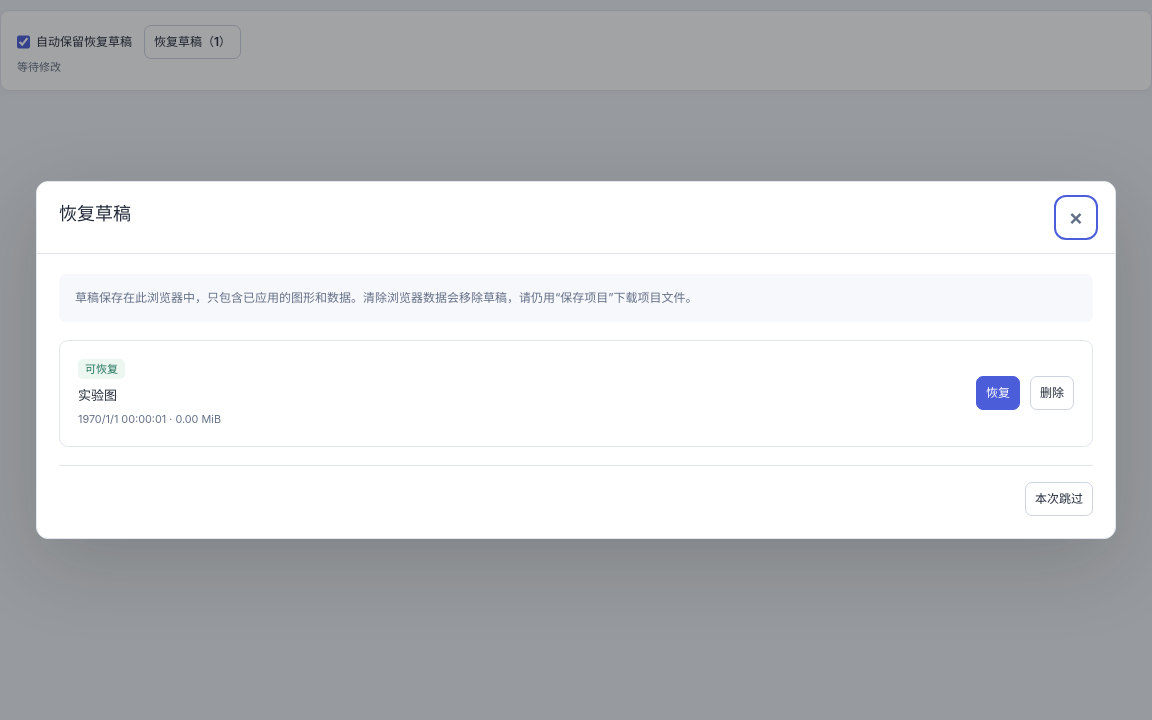
Test: 启动发现草稿可跳过，跳过不会关闭自动保留或删除
Expected: the dialog "恢复草稿" is shown, [36,181,1116,539]
What coordinates should you click on to do the following:
click the button "本次跳过"
I would click on:
 (1059, 499)
Its box is [1025,482,1093,516].
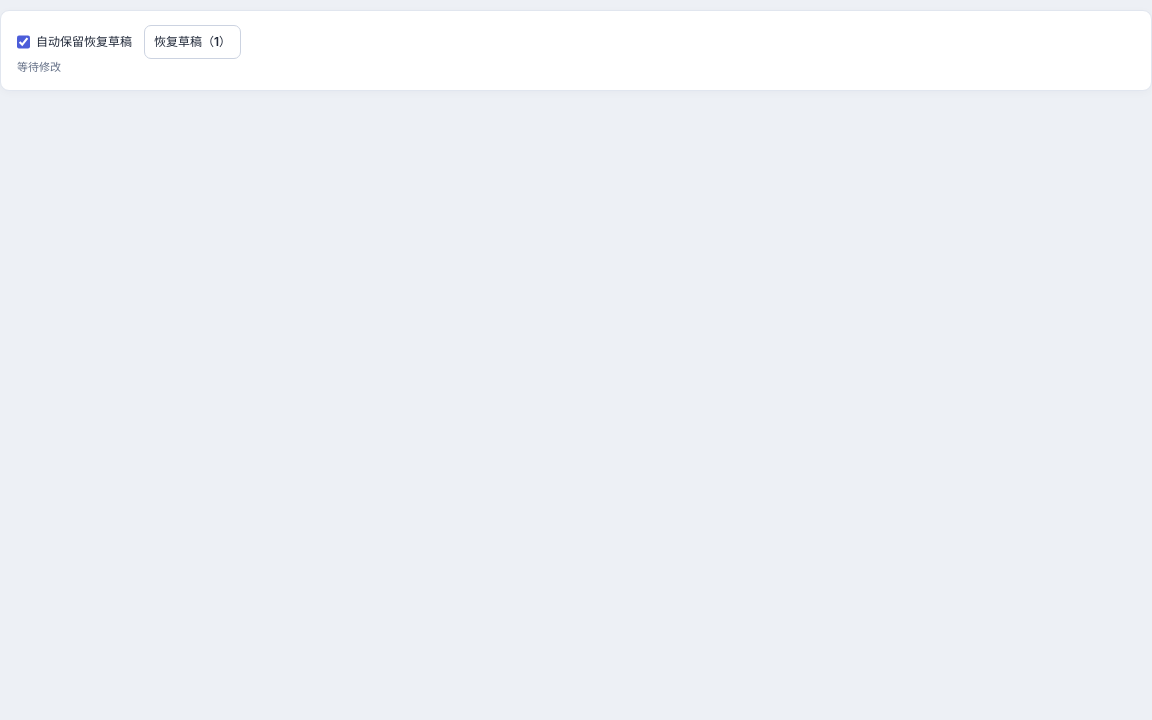
Now the dialog is gone
